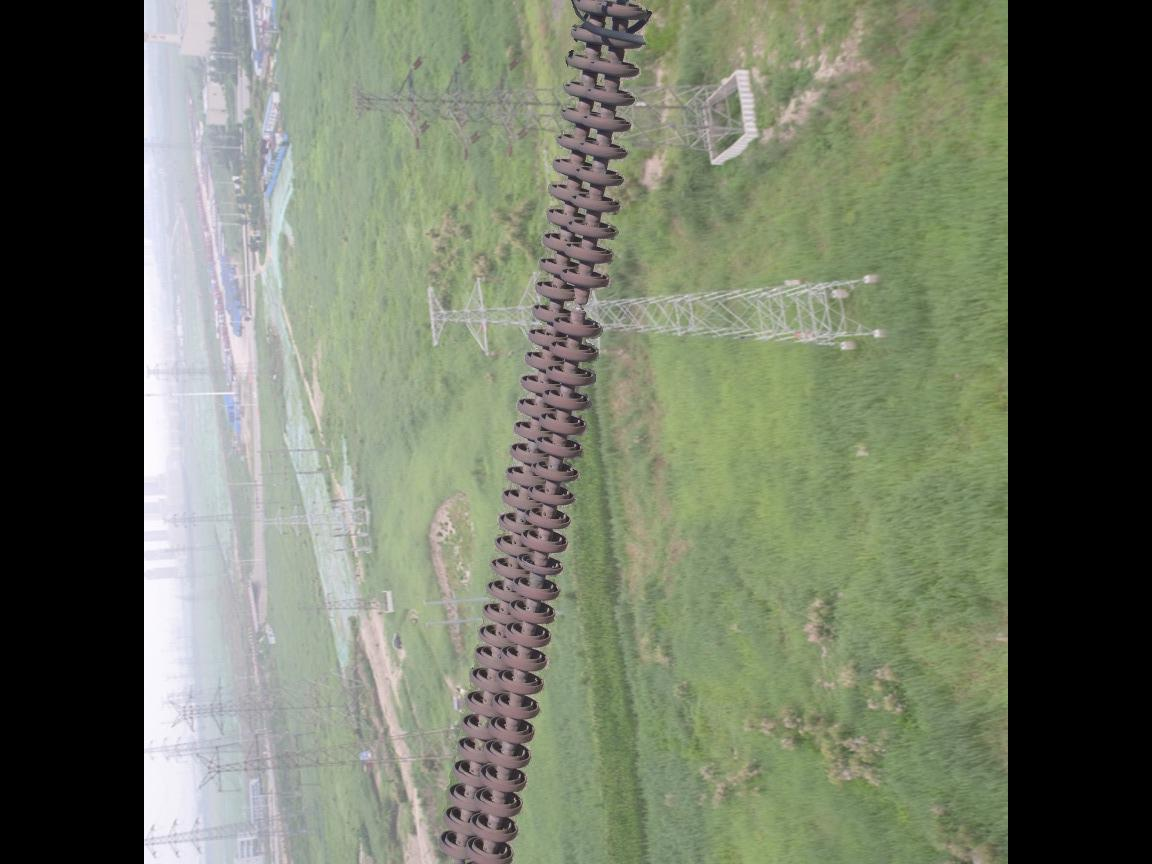insulator: (430, 1, 656, 864)
insulator_stringdrop: (551, 265, 612, 346)
